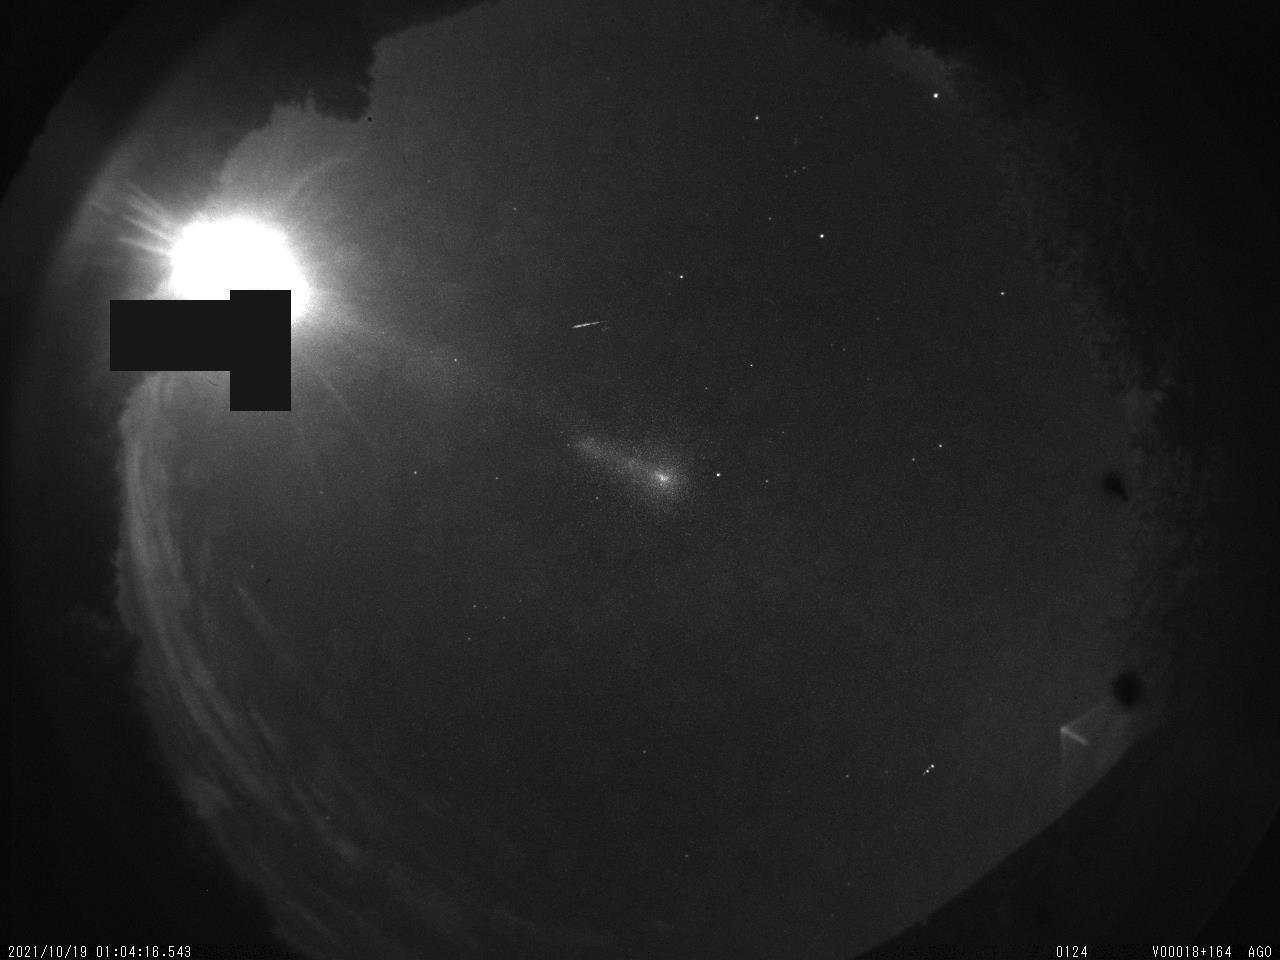Meteor: (563, 313, 611, 338)
